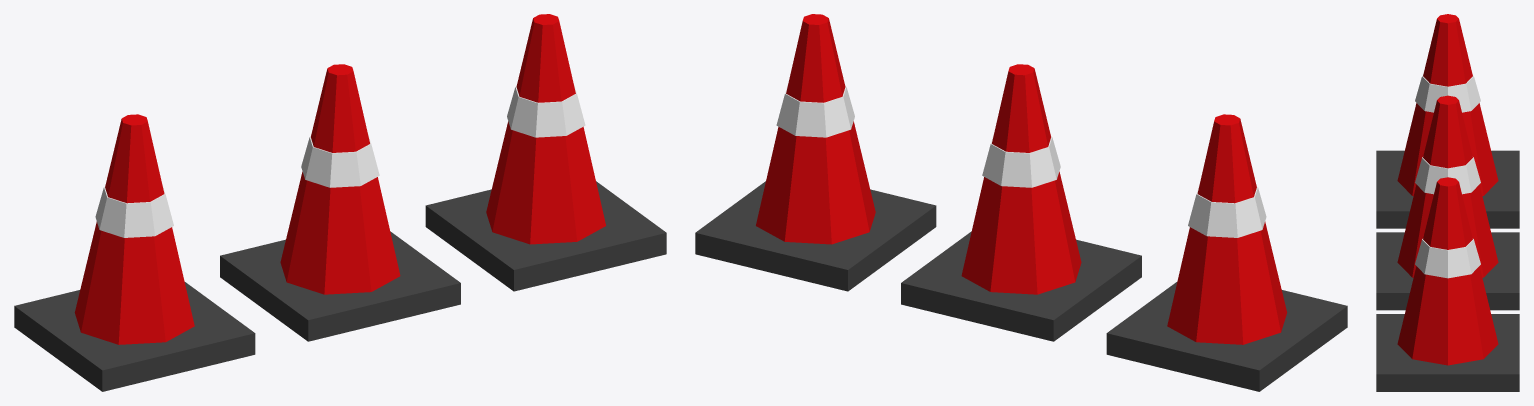
The picture shows the model from 3 angles, left to right: view 1: azimuth 30°, elevation 25°; view 2: azimuth 150°, elevation 25°; view 3: azimuth 270°, elevation 25°; orthographic projection. The views are drawn at different scales.
Visible parts, largest first — view 1: Safety cone.001, Safety cone, Safety cone.002, Cone foot.002, Cone foot, Cone foot.001, Cone white band.001, Cone white band.002, Cone white band; view 2: Safety cone.001, Safety cone, Safety cone.002, Cone foot.002, Cone foot, Cone foot.001, Cone white band.001, Cone white band.002, Cone white band; view 3: Safety cone.002, Cone foot.002, Safety cone.001, Safety cone, Cone foot.001, Cone foot, Cone white band.002, Cone white band, Cone white band.001.
Boxes of the visible parts, x1,y1,x2,y2 form: Safety cone.001: (280, 64, 400, 294); Safety cone: (74, 114, 194, 344); Safety cone.002: (486, 14, 605, 244); Cone foot.002: (425, 181, 666, 291); Cone foot: (14, 282, 255, 391); Cone foot.001: (220, 231, 460, 341); Cone white band.001: (301, 134, 379, 187); Cone white band.002: (507, 85, 585, 137); Cone white band: (95, 184, 173, 237); Safety cone.001: (961, 64, 1081, 294); Safety cone: (1167, 114, 1287, 344); Safety cone.002: (756, 14, 875, 244); Cone foot.002: (695, 181, 936, 291); Cone foot: (1106, 282, 1347, 391); Cone foot.001: (901, 231, 1141, 341); Cone white band.001: (982, 134, 1060, 187); Cone white band.002: (776, 85, 854, 137); Cone white band: (1188, 184, 1266, 237); Safety cone.002: (1397, 177, 1498, 365); Cone foot.002: (1376, 314, 1519, 391); Safety cone.001: (1397, 95, 1498, 277); Safety cone: (1397, 14, 1498, 196); Cone foot.001: (1376, 232, 1519, 310); Cone foot: (1376, 150, 1519, 228); Cone white band.002: (1415, 239, 1480, 278); Cone white band: (1415, 75, 1480, 112); Cone white band.001: (1415, 157, 1480, 194).
Size of the model in its own units: 0.96 by 0.3595 by 0.26.
1 material, 1 textured.
